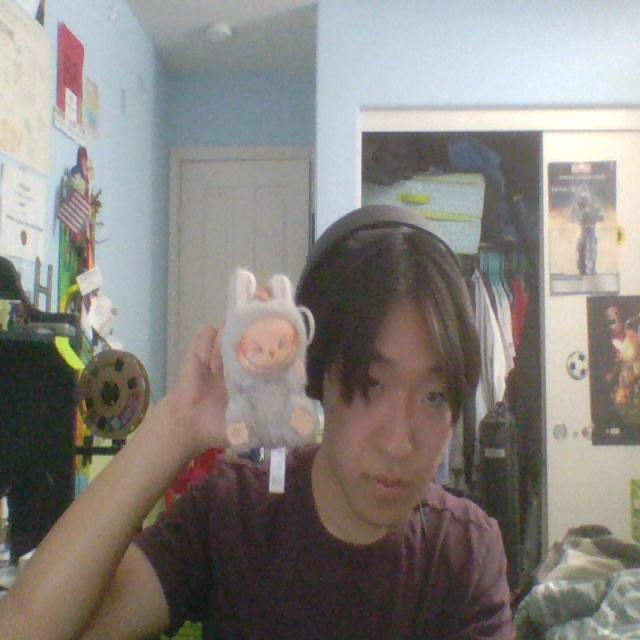labubu: (220, 268, 316, 451)
